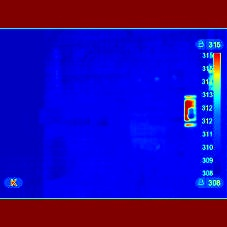Less: (172, 106, 202, 130)
